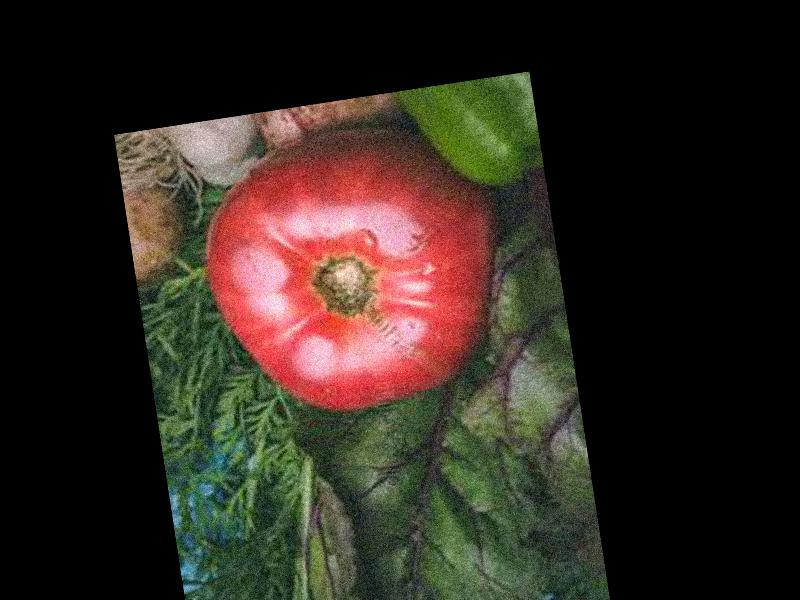Tomato: (188, 105, 523, 427)
